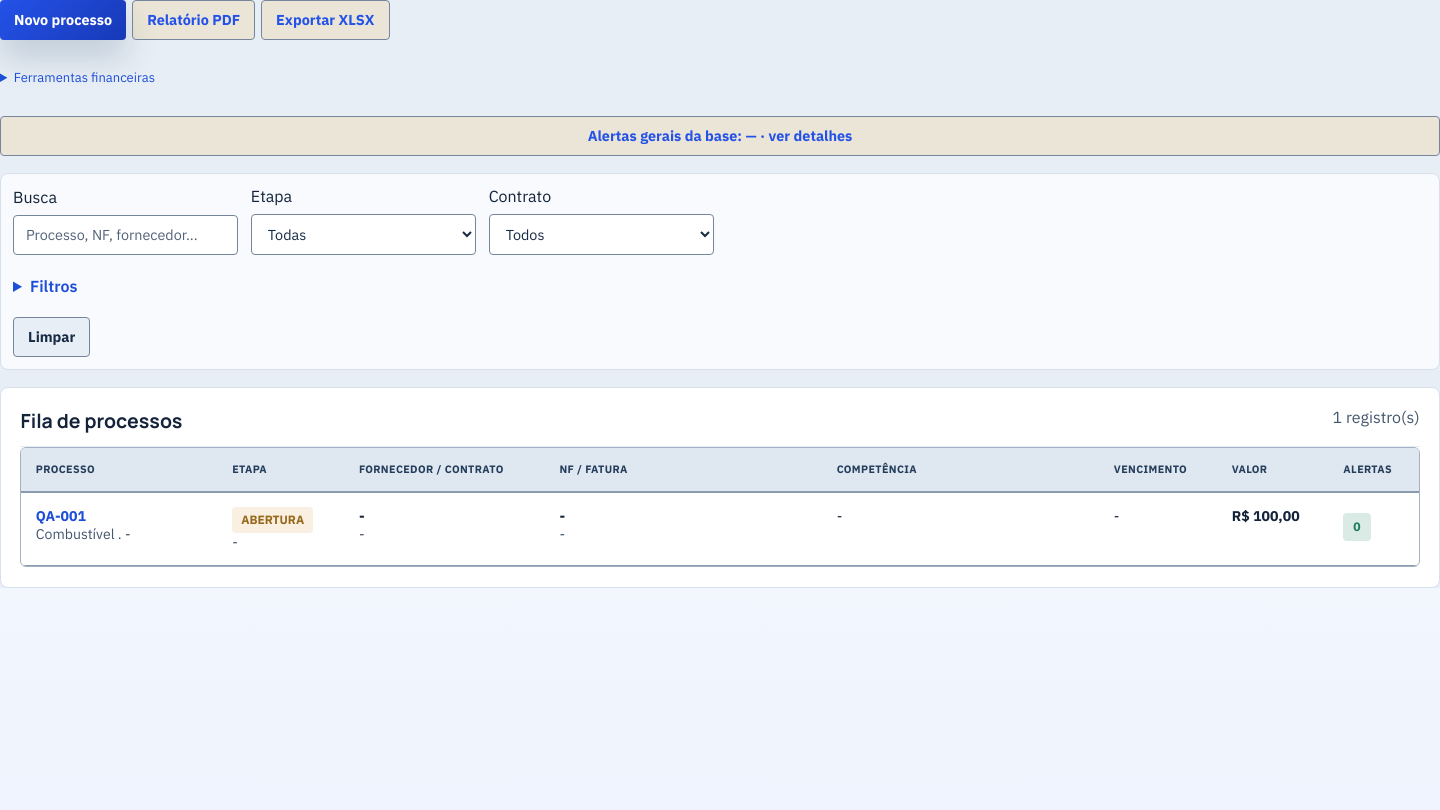
mantém somente busca, etapa e contrato visíveis no modo embutido, preservando os filtros e ferramentas
Expected: the button "QA-001" is shown, [36, 507, 86, 525]
Expected: the search field labelled "Busca" is shown, [13, 215, 238, 255]
What coordinates should you click on to do the following:
click the heading "Filtros"
I would click on:
 (54, 286)
Its box is [30, 276, 77, 296].
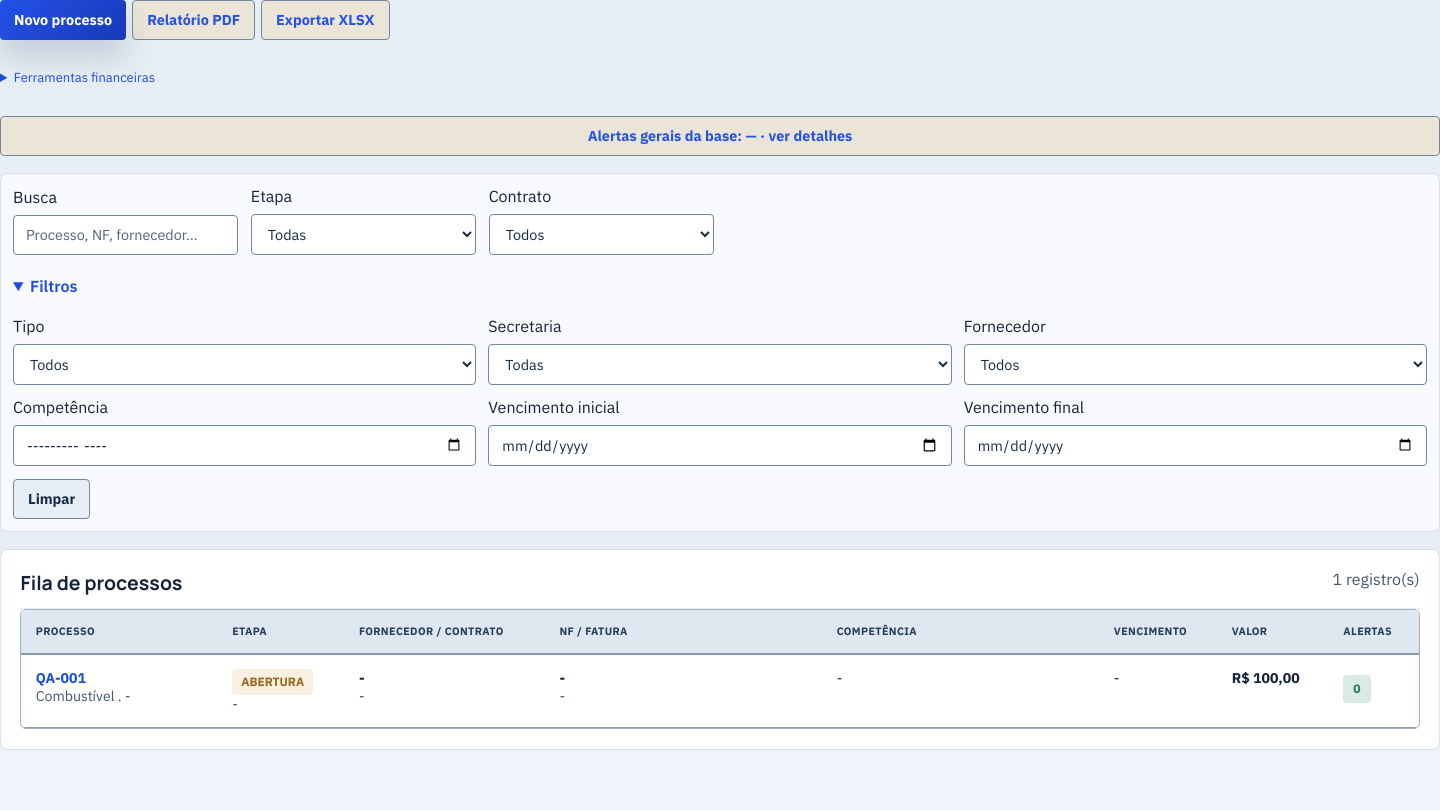
Now the dropdown labelled "Tipo" is shown, box [13, 344, 476, 385]
What coordinates should you click on to do the following:
click the heading "Ferramentas financeiras"
I would click on:
 (84, 78)
Its box is [14, 69, 155, 86].
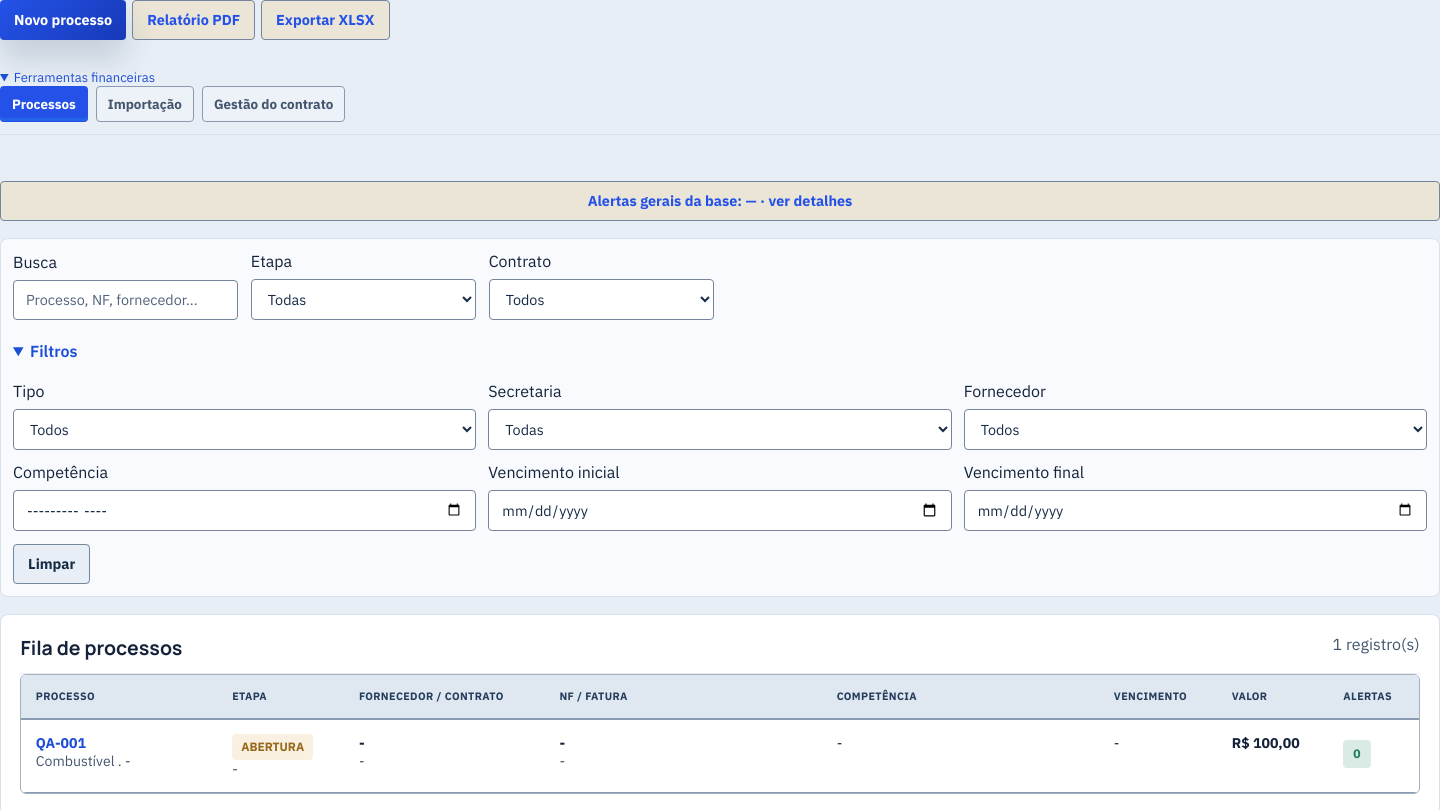
Now the button "Importação" is shown, box [96, 86, 194, 122]
Now the button "Gestão do contrato" is shown, box [202, 86, 345, 122]
